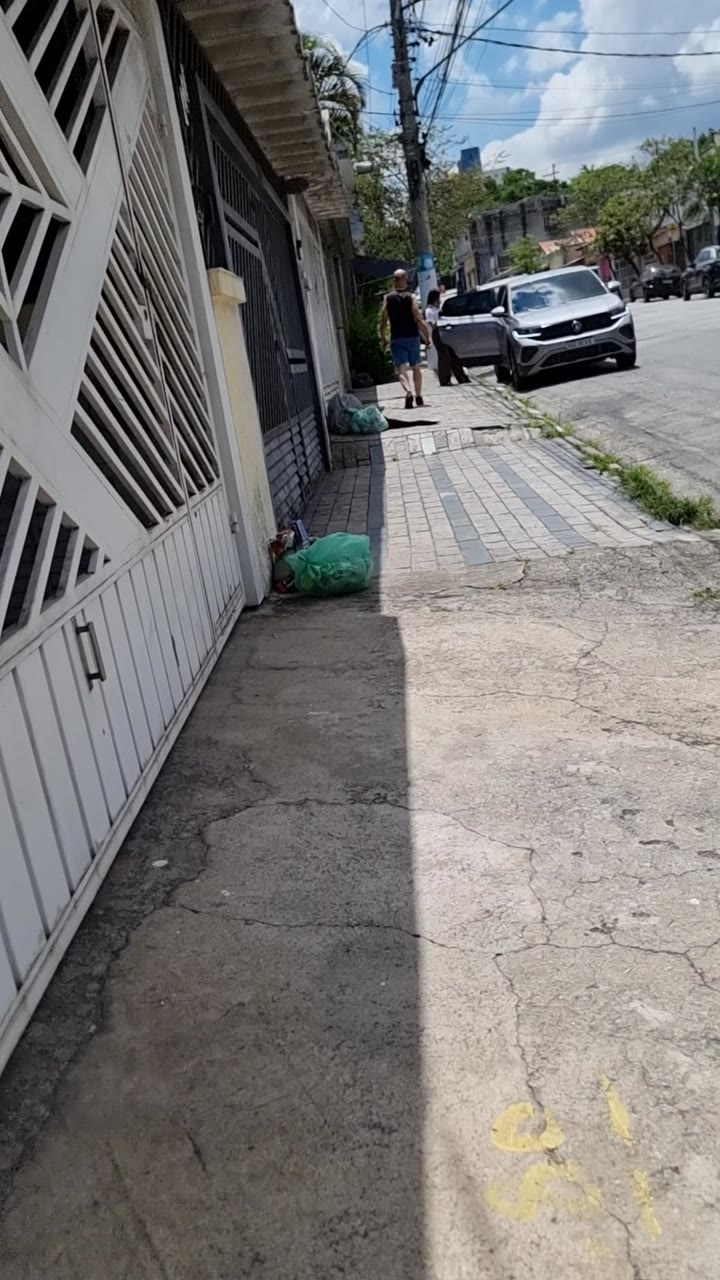obstaculo: (284, 532, 372, 596), (329, 393, 388, 434)
